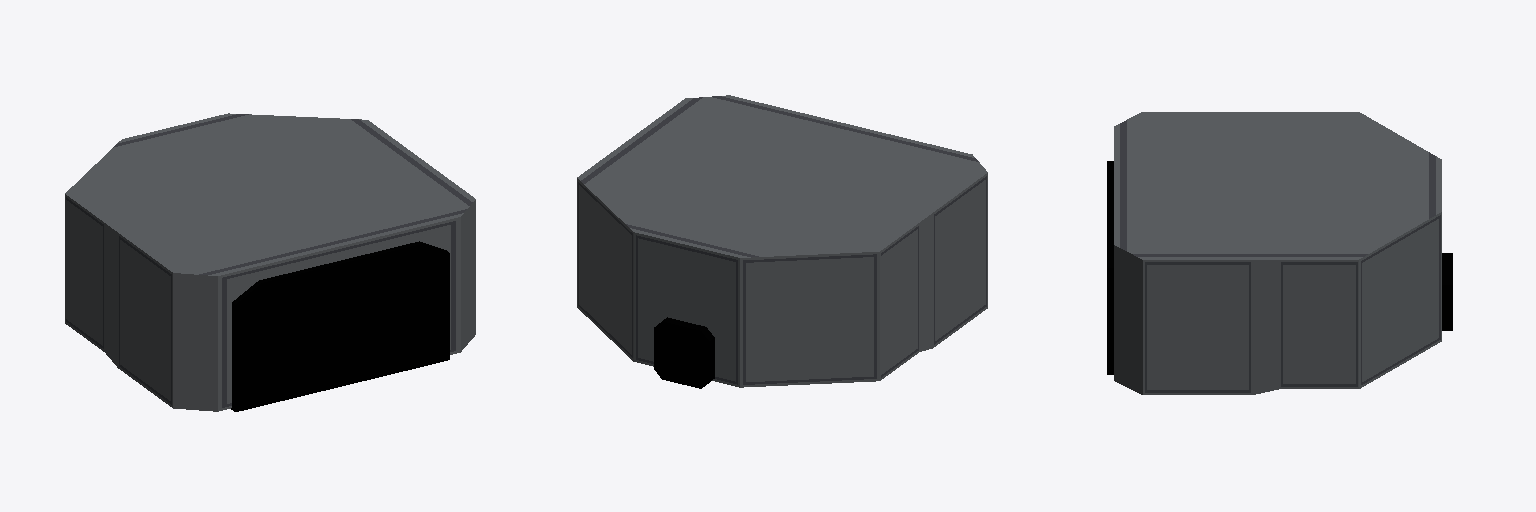
3 renders of one model, left to right at view 1: azimuth 30°, elevation 25°; view 2: azimuth 150°, elevation 25°; view 3: azimuth 270°, elevation 25°, orthographic.
Parts seen in each view (by area): view 1: Cube_Material.004, Cube.003_Material, Cube_Material.007; view 2: Cube_Material.004, Cube.001_Material, Cube_Material.007; view 3: Cube_Material.004, Cube_Material.007, Cube.003_Material, Cube.001_Material.
Part boxes in pixels (bbox=[...]): Cube_Material.004: bbox=[65, 113, 475, 411]; Cube.003_Material: bbox=[231, 241, 449, 411]; Cube_Material.007: bbox=[105, 200, 475, 411]; Cube_Material.004: bbox=[577, 95, 987, 387]; Cube.001_Material: bbox=[654, 317, 714, 388]; Cube_Material.007: bbox=[920, 213, 932, 351]; Cube_Material.004: bbox=[1114, 112, 1441, 394]; Cube_Material.007: bbox=[1114, 245, 1279, 394]; Cube.003_Material: bbox=[1107, 161, 1113, 374]; Cube.001_Material: bbox=[1442, 253, 1452, 330].
Bounding box in the file's own units: 52.83 × 23.42 × 52.22.
11 materials, 7 textured.